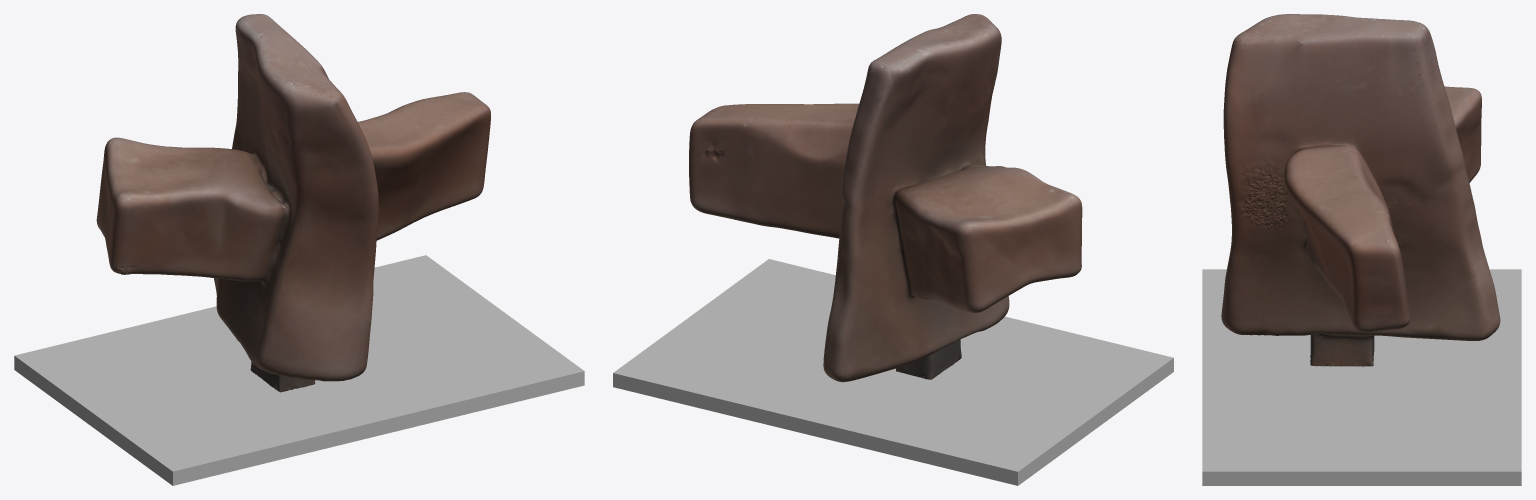
Rendered from preview.glb.
3 renders of one model, left to right at view 1: azimuth 30°, elevation 25°; view 2: azimuth 150°, elevation 25°; view 3: azimuth 270°, elevation 25°, orthographic. The views are drawn at different scales.
Visible parts, largest first — view 1: Object_2; view 2: Object_2; view 3: Object_2.
Boxes of the visible parts, <box> form: Object_2: <box>14,14,584,485</box>; Object_2: <box>613,14,1173,485</box>; Object_2: <box>1202,14,1521,485</box>.
Size of the model in its own units: 300 by 242 by 200.
